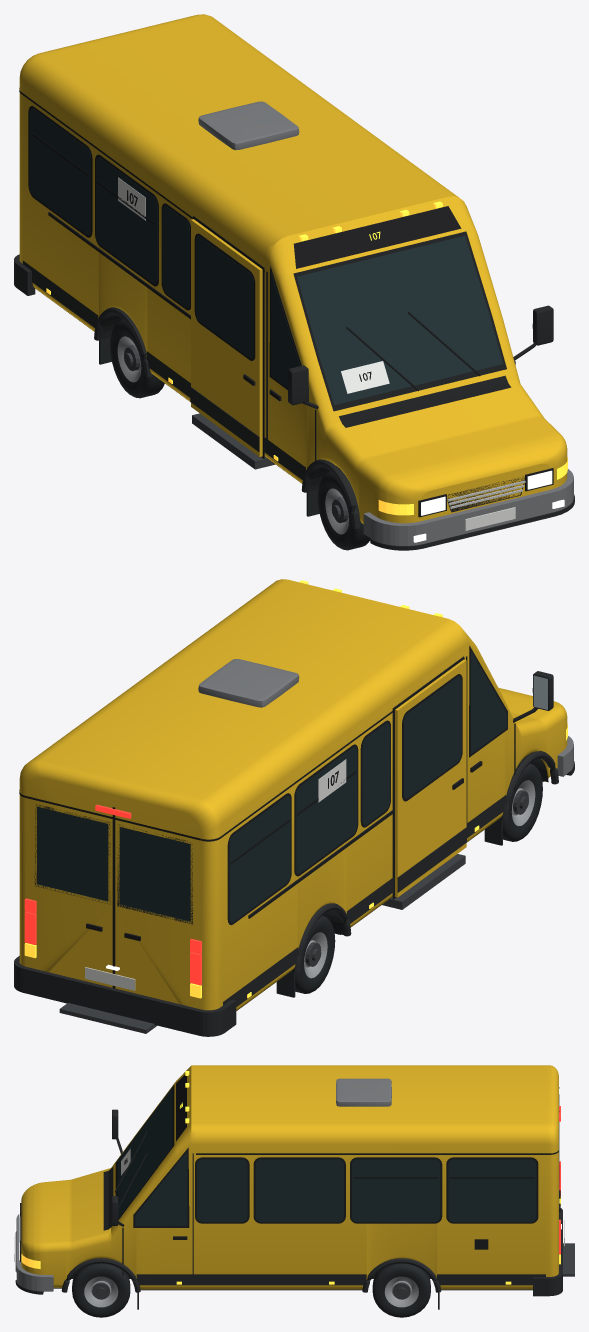
Rendered from PT_Minibus_Route.glb.
3 views of the same model, one above another, from view 1: azimuth 30°, elevation 25°; view 2: azimuth 150°, elevation 25°; view 3: azimuth 270°, elevation 25° (orthographic). The views are drawn at different scales.
Visible parts, largest first — view 1: Body.001, Glass_Windscreen.001, Door_Slide, Glass_Side_R1, Door_Slide_Glass, Glass_Side_R2, Bumper_Front.001, RouteDisplay_Front, Roof_Hatch, Windscreen_Seal, Glass_Side_R3, Cladding_R (+17 smaller); view 2: Body.001, Door_Slide, Bumper_Rear.001, Glass_Rear_L, Glass_Rear_R, Glass_Side_R1, Door_Slide_Glass, Glass_Side_R2, Roof_Hatch, Glass_Side_R3, Cladding_R, Glass_Cab_R (+16 smaller); view 3: Body.001, Glass_Side_L3, Glass_Side_L1, Glass_Side_L2, Cladding_L, Glass_Side_L4, Glass_Windscreen.001, Glass_Cab_L, Wheel_FL_Tyre.001, Wheel_RL_Tyre.001, Roof_Hatch, ArchFlares_L (+17 smaller).
Boxes of the visible parts, x1=… form: Body.001: x1=19, y1=14, x2=567, y2=523; Glass_Windscreen.001: x1=297, y1=236, x2=502, y2=404; Door_Slide: x1=191, y1=219, x2=262, y2=456; Glass_Side_R1: x1=29, y1=108, x2=90, y2=234; Door_Slide_Glass: x1=196, y1=236, x2=253, y2=358; Glass_Side_R2: x1=96, y1=157, x2=157, y2=283; Bumper_Front.001: x1=363, y1=469, x2=573, y2=545; RouteDisplay_Front: x1=293, y1=206, x2=461, y2=268; Roof_Hatch: x1=198, y1=101, x2=299, y2=150; Windscreen_Seal: x1=293, y1=231, x2=506, y2=411; Glass_Side_R3: x1=162, y1=206, x2=189, y2=307; Cladding_R: x1=23, y1=260, x2=305, y2=479; Body.001: x1=19, y1=579, x2=567, y2=1010; Door_Slide: x1=395, y1=659, x2=466, y2=897; Bumper_Rear.001: x1=14, y1=956, x2=236, y2=1036; Glass_Rear_L: x1=37, y1=806, x2=108, y2=901; Glass_Rear_R: x1=119, y1=827, x2=190, y2=921; Glass_Side_R1: x1=229, y1=796, x2=290, y2=922; Door_Slide_Glass: x1=403, y1=677, x2=461, y2=798; Glass_Side_R2: x1=296, y1=747, x2=357, y2=873; Roof_Hatch: x1=198, y1=659, x2=299, y2=707; Glass_Side_R3: x1=362, y1=723, x2=389, y2=824; Cladding_R: x1=223, y1=795, x2=505, y2=1006; Glass_Cab_R: x1=470, y1=650, x2=506, y2=753; Body.001: x1=21, y1=1065, x2=558, y2=1289; Glass_Side_L3: x1=255, y1=1159, x2=343, y2=1221; Glass_Side_L1: x1=448, y1=1159, x2=536, y2=1221; Glass_Side_L2: x1=352, y1=1159, x2=440, y2=1221; Cladding_L: x1=136, y1=1274, x2=545, y2=1285; Glass_Side_L4: x1=197, y1=1159, x2=247, y2=1221; Glass_Windscreen.001: x1=118, y1=1087, x2=172, y2=1218; Glass_Cab_L: x1=135, y1=1151, x2=187, y2=1226; Wheel_FL_Tyre.001: x1=72, y1=1263, x2=130, y2=1317; Wheel_RL_Tyre.001: x1=372, y1=1263, x2=430, y2=1317; Roof_Hatch: x1=336, y1=1078, x2=391, y2=1106; ArchFlares_L: x1=61, y1=1258, x2=441, y2=1292.
Size of the model in its own units: 2.73 by 2.69 by 6.99.
